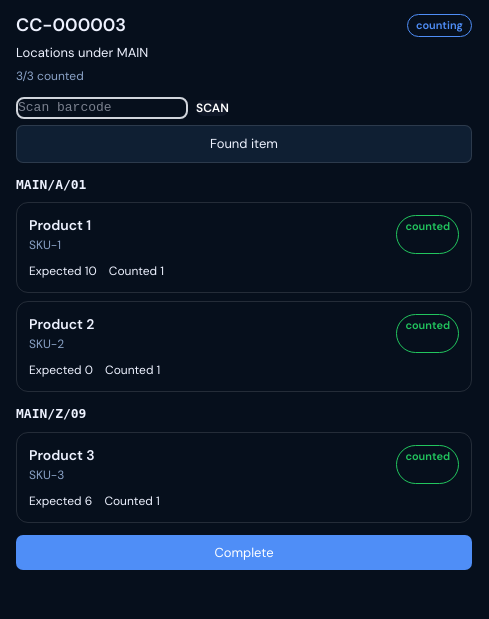
it: Count screen › shows the backend 400 detail inline
The image size is (489, 619).
Click the button "Complete" at (244,552), box [16,535,472,570]
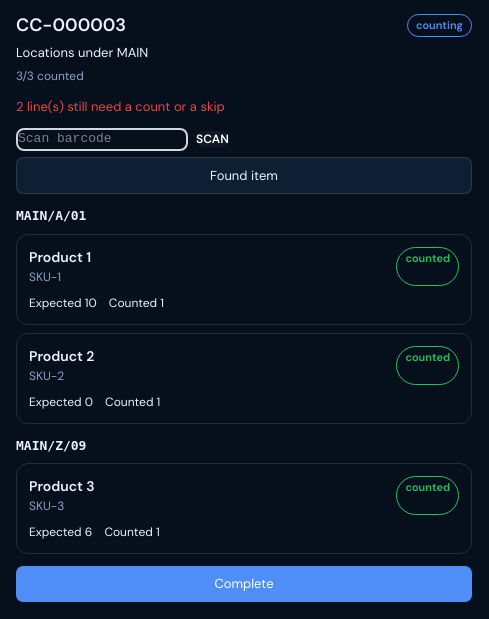
Check: the message with test id "count-error" reads "2 line(s) still need a count or a skip", box [16,98,225,114]
